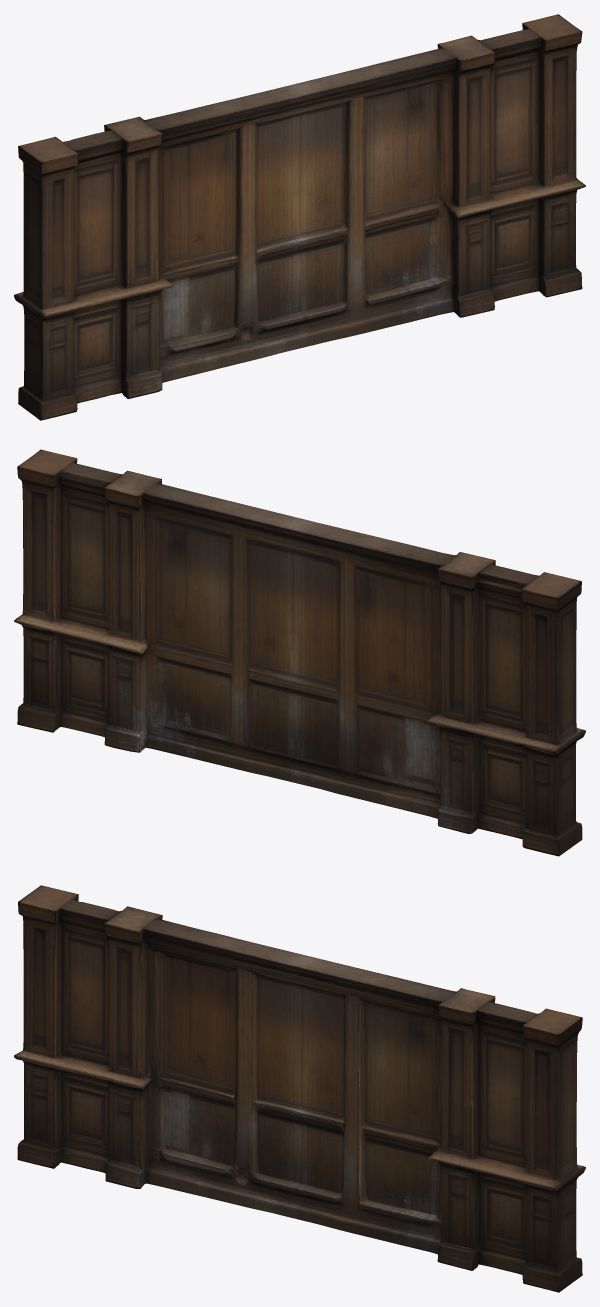
File: wooden wall (2).glb
3 renders of one model, top to bottom at view 1: azimuth 30°, elevation 25°; view 2: azimuth 150°, elevation 25°; view 3: azimuth 330°, elevation 25°, orthographic.
Visible parts, largest first — view 1: world; view 2: world; view 3: world.
Boxes of the visible parts, <box> form: world: <box>14,14,585,420</box>; world: <box>14,449,585,856</box>; world: <box>14,885,585,1292</box>.
Size of the model in its own units: 0.9993 by 0.4539 by 0.0981.
Materials: 1 (1 with a texture image).
